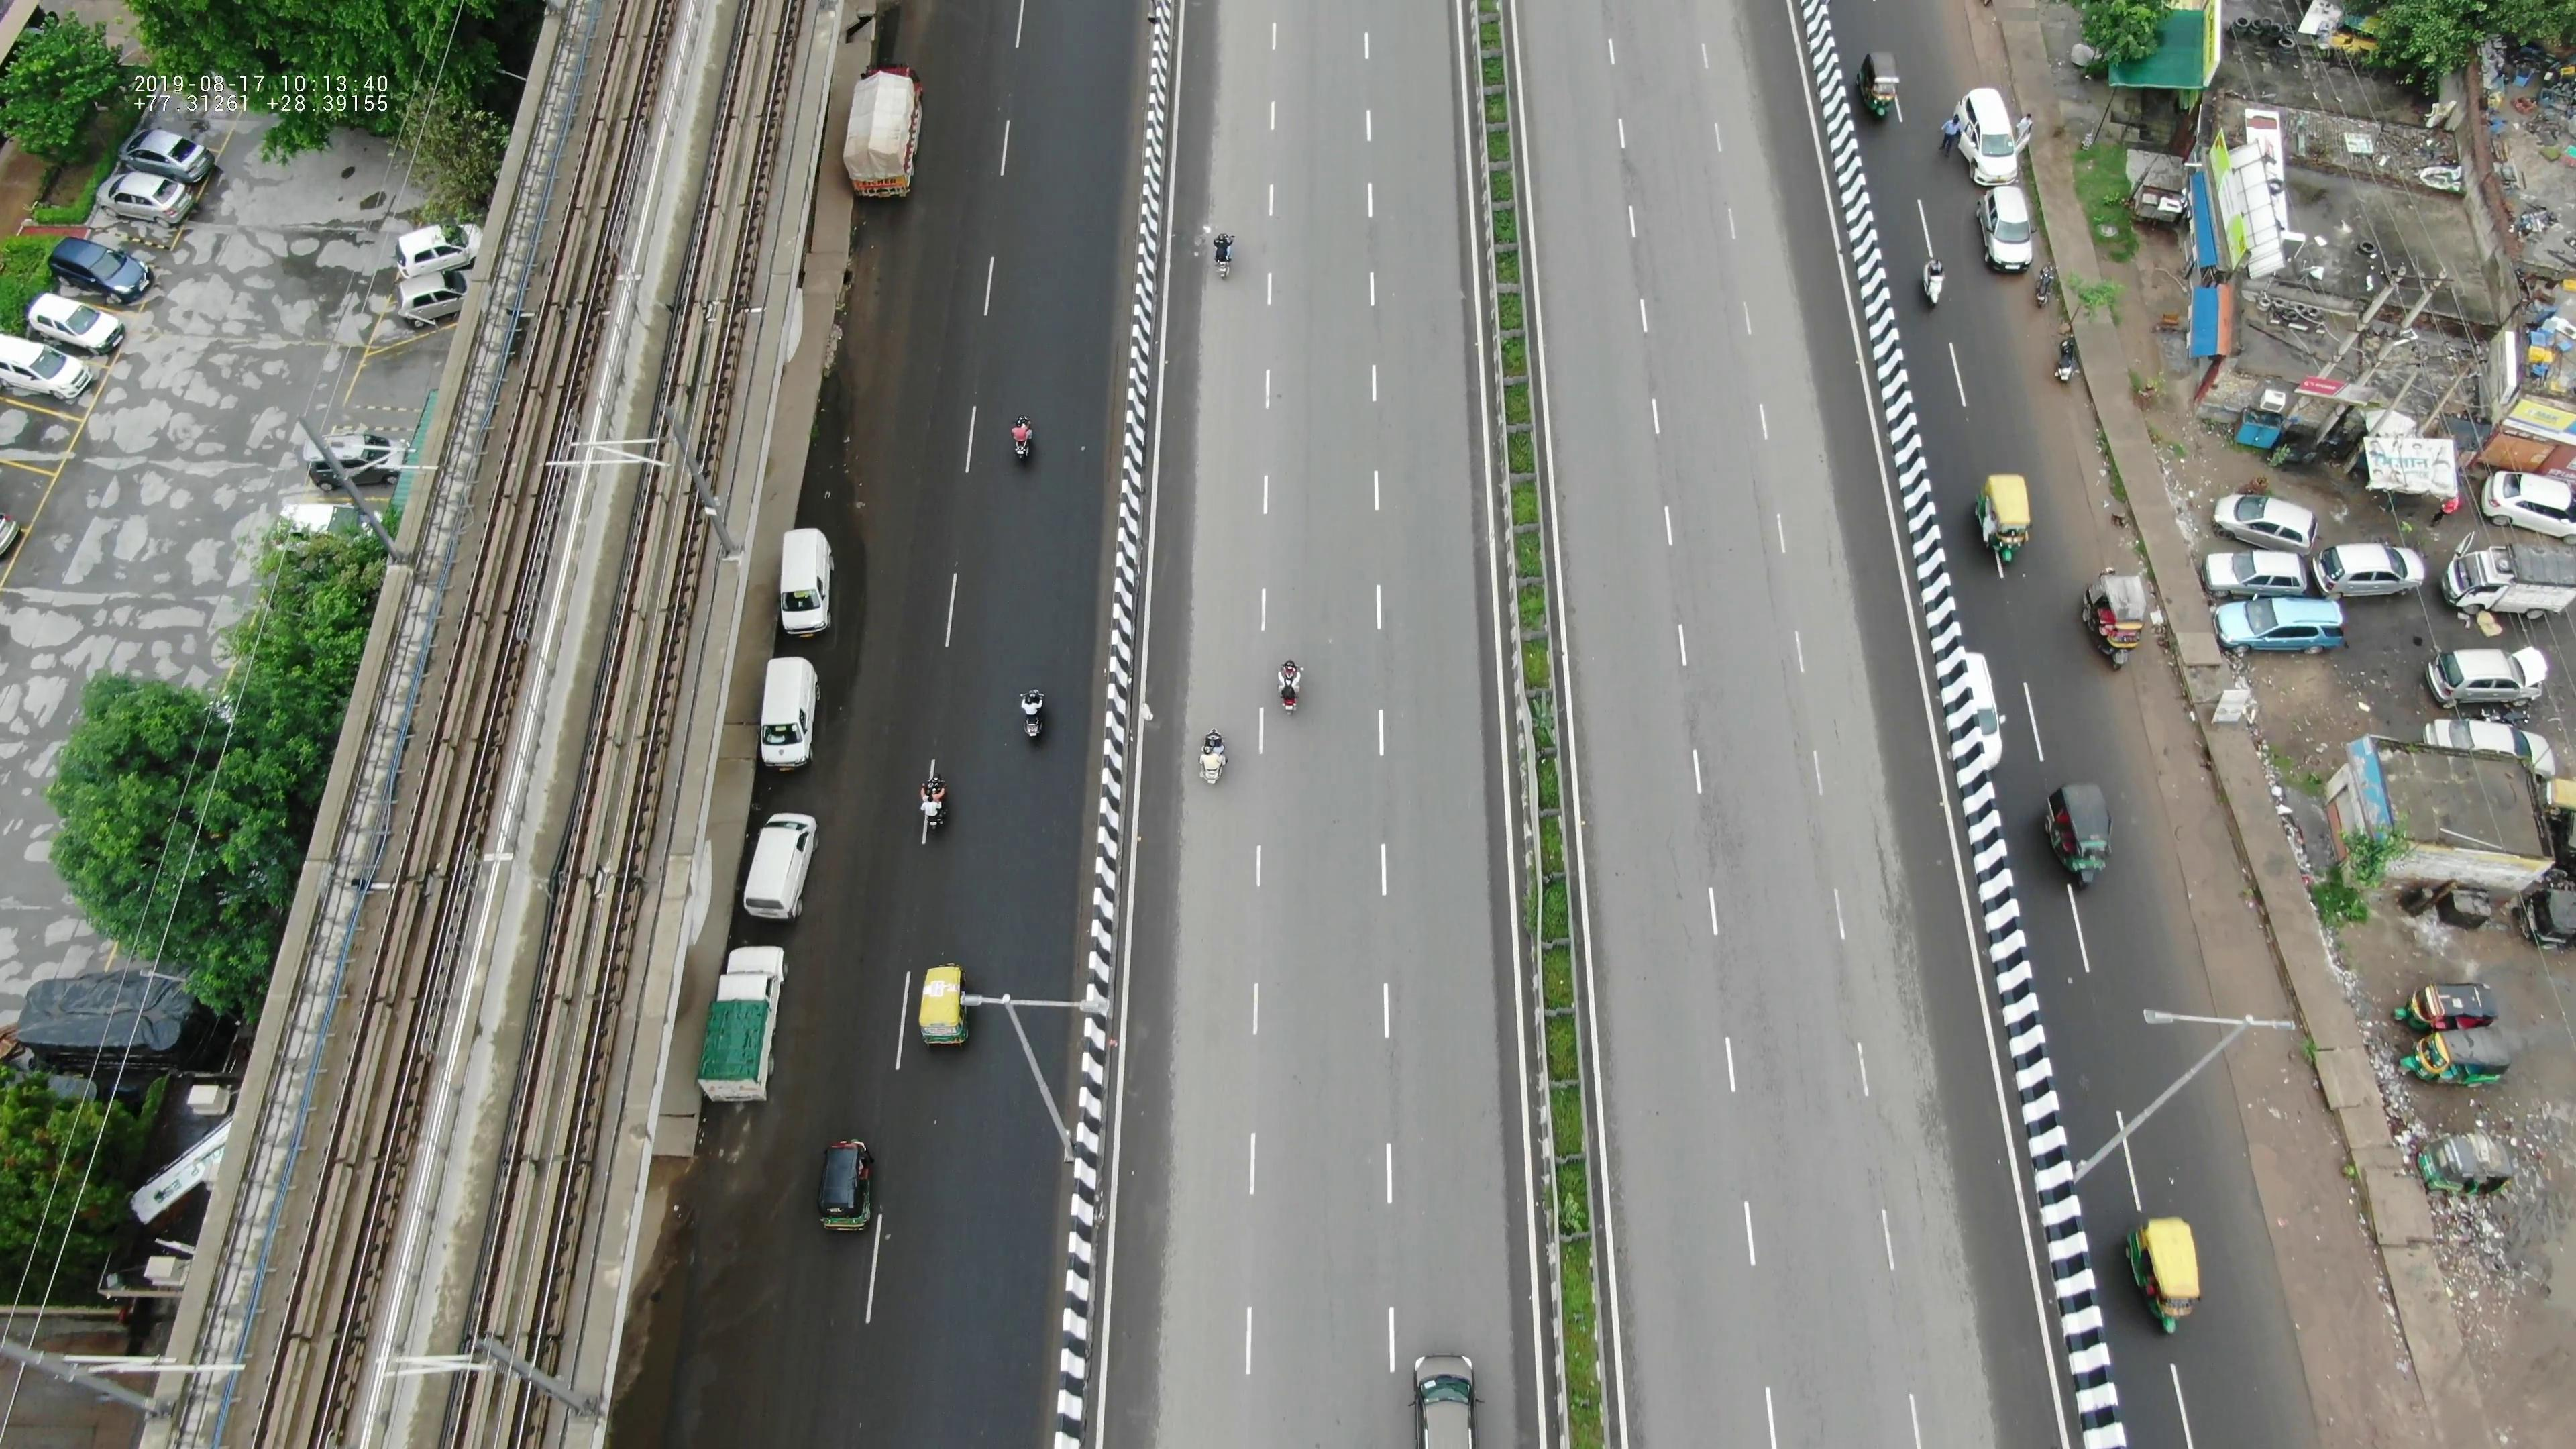Hair_cracks: (1658, 791, 1737, 982)
